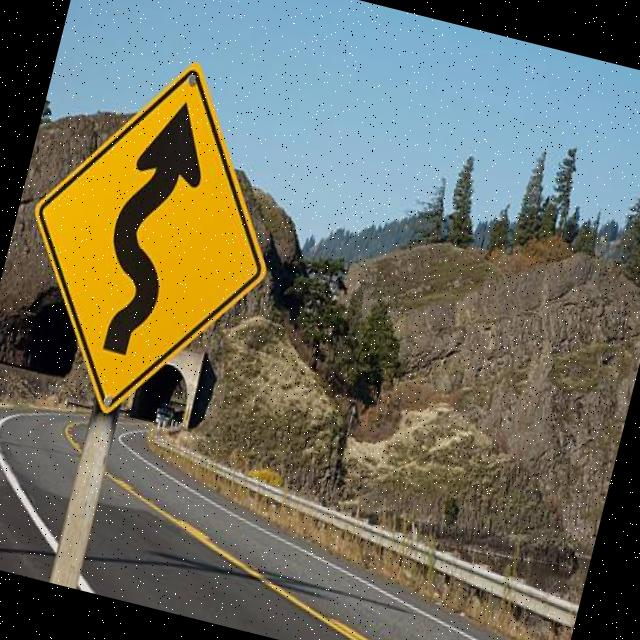left_sharp_curve: (0, 25, 323, 446)
